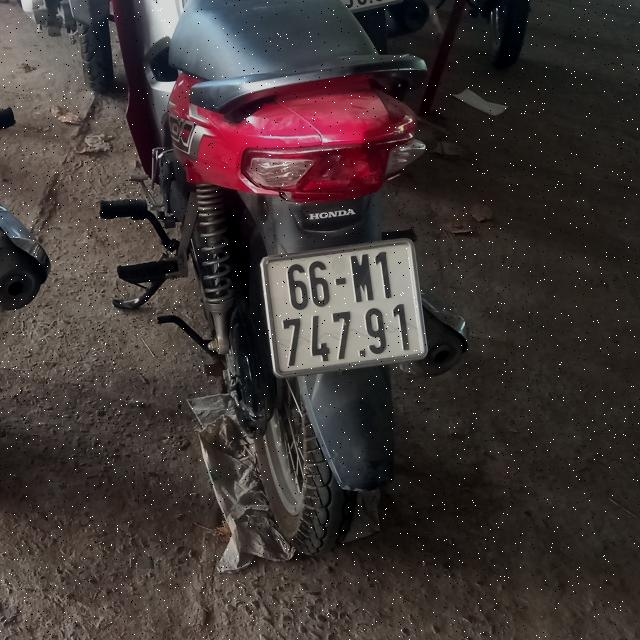1: (376, 251, 392, 299)
4: (310, 315, 331, 361)
6: (286, 264, 307, 310), (309, 261, 330, 307)
7: (332, 311, 352, 362), (283, 318, 300, 366)
9: (366, 308, 386, 355), (394, 303, 411, 351)
M: (349, 254, 374, 302)
